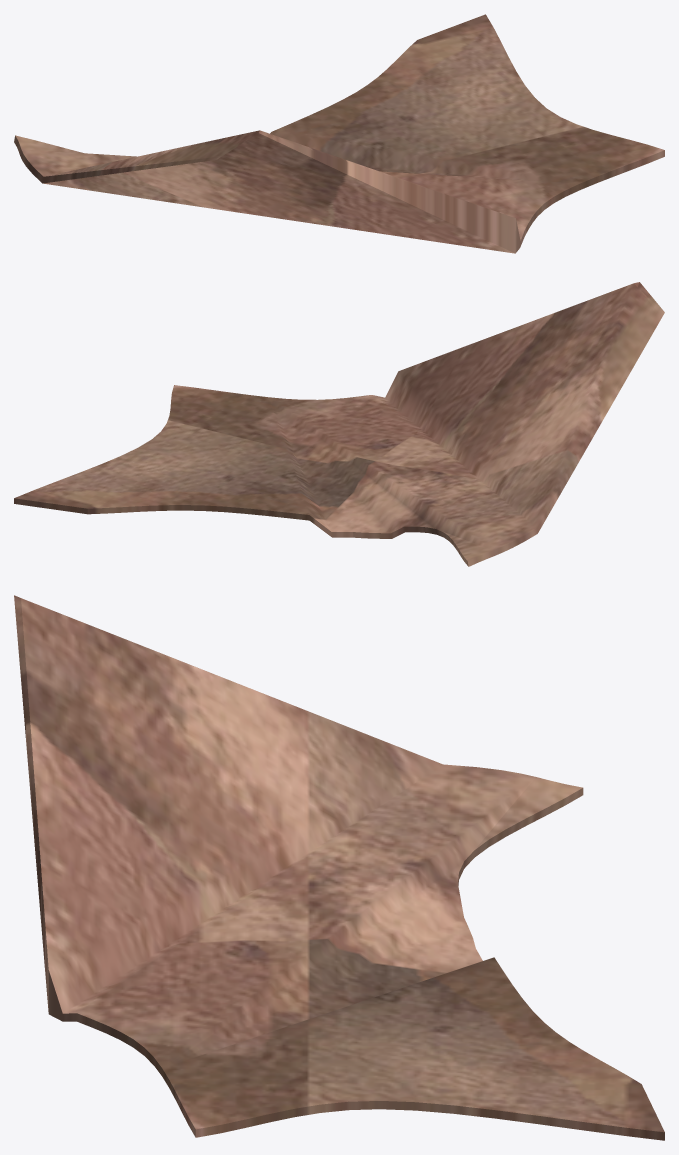
Rendered from skin.FBX.
3 views of the same model, one above another, from view 1: azimuth 30°, elevation 25°; view 2: azimuth 150°, elevation 25°; view 3: azimuth 270°, elevation 25° (orthographic). The views are drawn at different scales.
Visible parts, largest first — view 1: Line001; view 2: Line001; view 3: Line001.
Part boxes in pixels (box(x1,y1,x2,y2)): Line001: box(14, 14, 664, 253); Line001: box(14, 282, 664, 566); Line001: box(14, 595, 664, 1140).
Bounding box in the file's own units: 4.97 × 1.88 × 4.14.
1 material, 1 textured.
